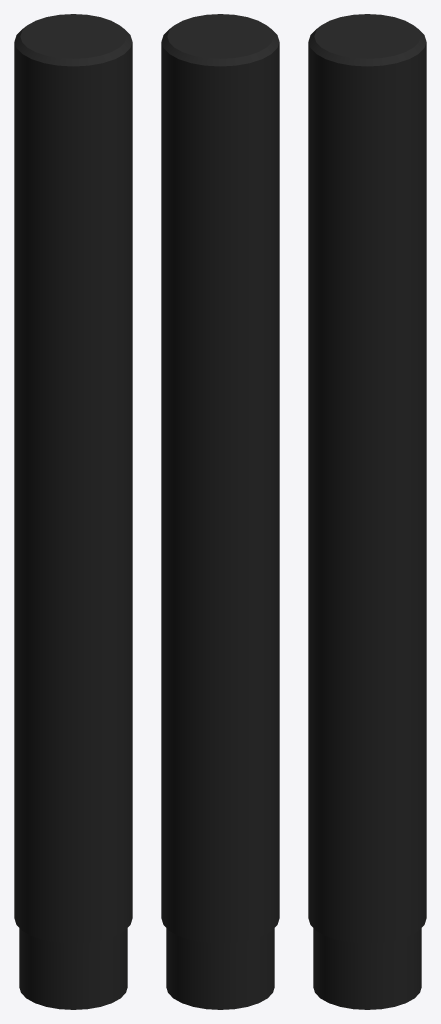
Rendered from Arrow_SRB_0_4.obj.
3 renders of one model, left to right at view 1: azimuth 30°, elevation 25°; view 2: azimuth 150°, elevation 25°; view 3: azimuth 330°, elevation 25°, orthographic.
Visible parts, largest first — view 1: Arrow_SRB_0_4; view 2: Arrow_SRB_0_4; view 3: Arrow_SRB_0_4.
Part boxes in pixels (x1=…): Arrow_SRB_0_4: x1=14, y1=14, x2=132, y2=1009; Arrow_SRB_0_4: x1=161, y1=14, x2=279, y2=1009; Arrow_SRB_0_4: x1=308, y1=14, x2=426, y2=1009.
Size of the model in its own units: 0.625 by 5.61 by 0.625.
